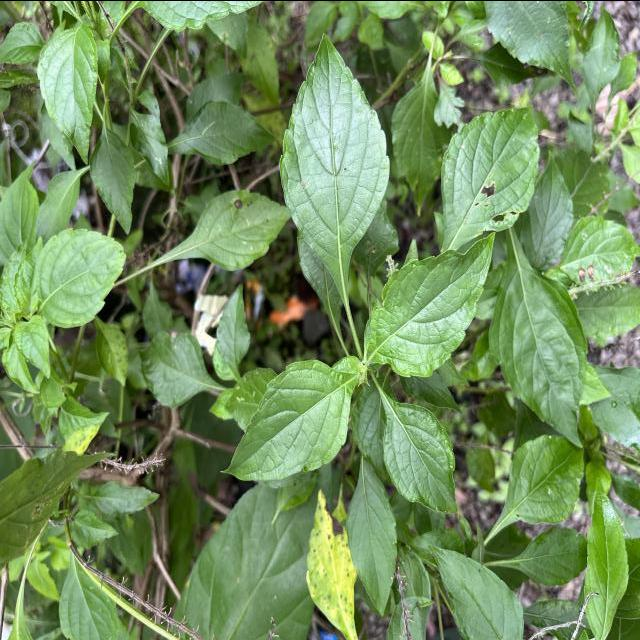Ocimum gratissimum: (276, 28, 394, 322), (484, 230, 591, 450), (360, 228, 504, 379), (215, 354, 363, 484), (439, 100, 542, 252), (375, 381, 460, 517), (29, 224, 129, 328), (34, 16, 102, 167), (424, 540, 524, 640), (344, 454, 400, 618), (580, 474, 630, 640)
